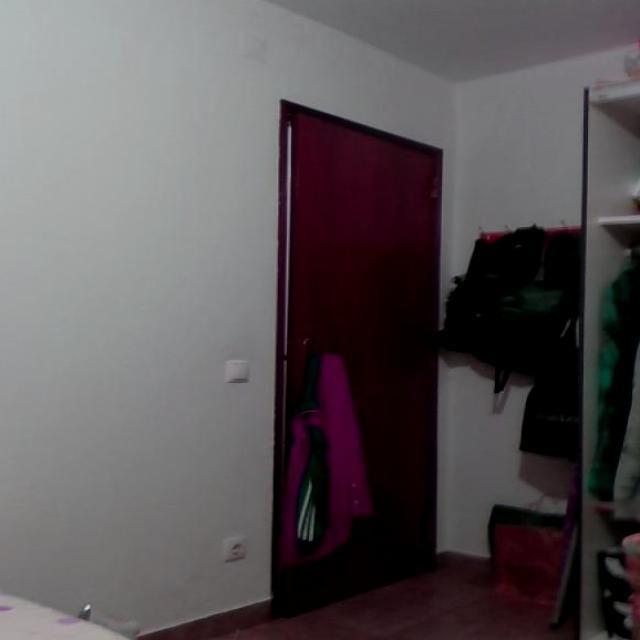door: (271, 98, 442, 617)
